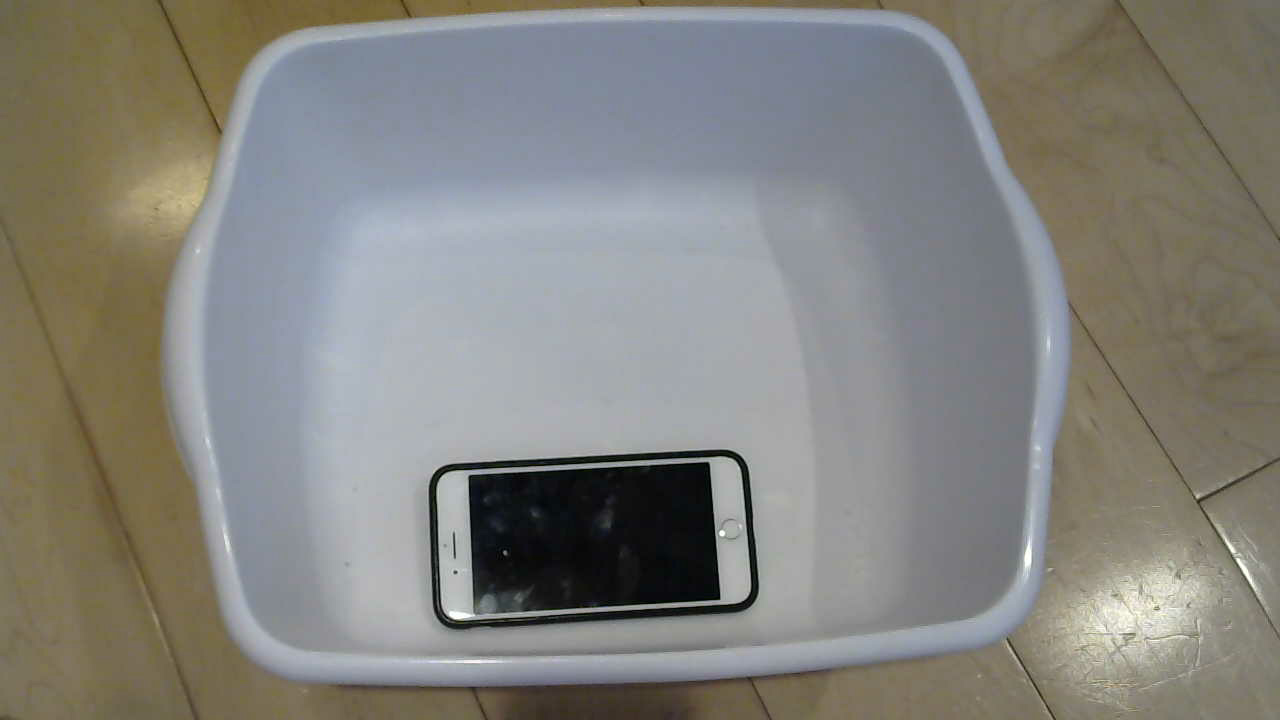phone: (442, 455, 767, 626)
